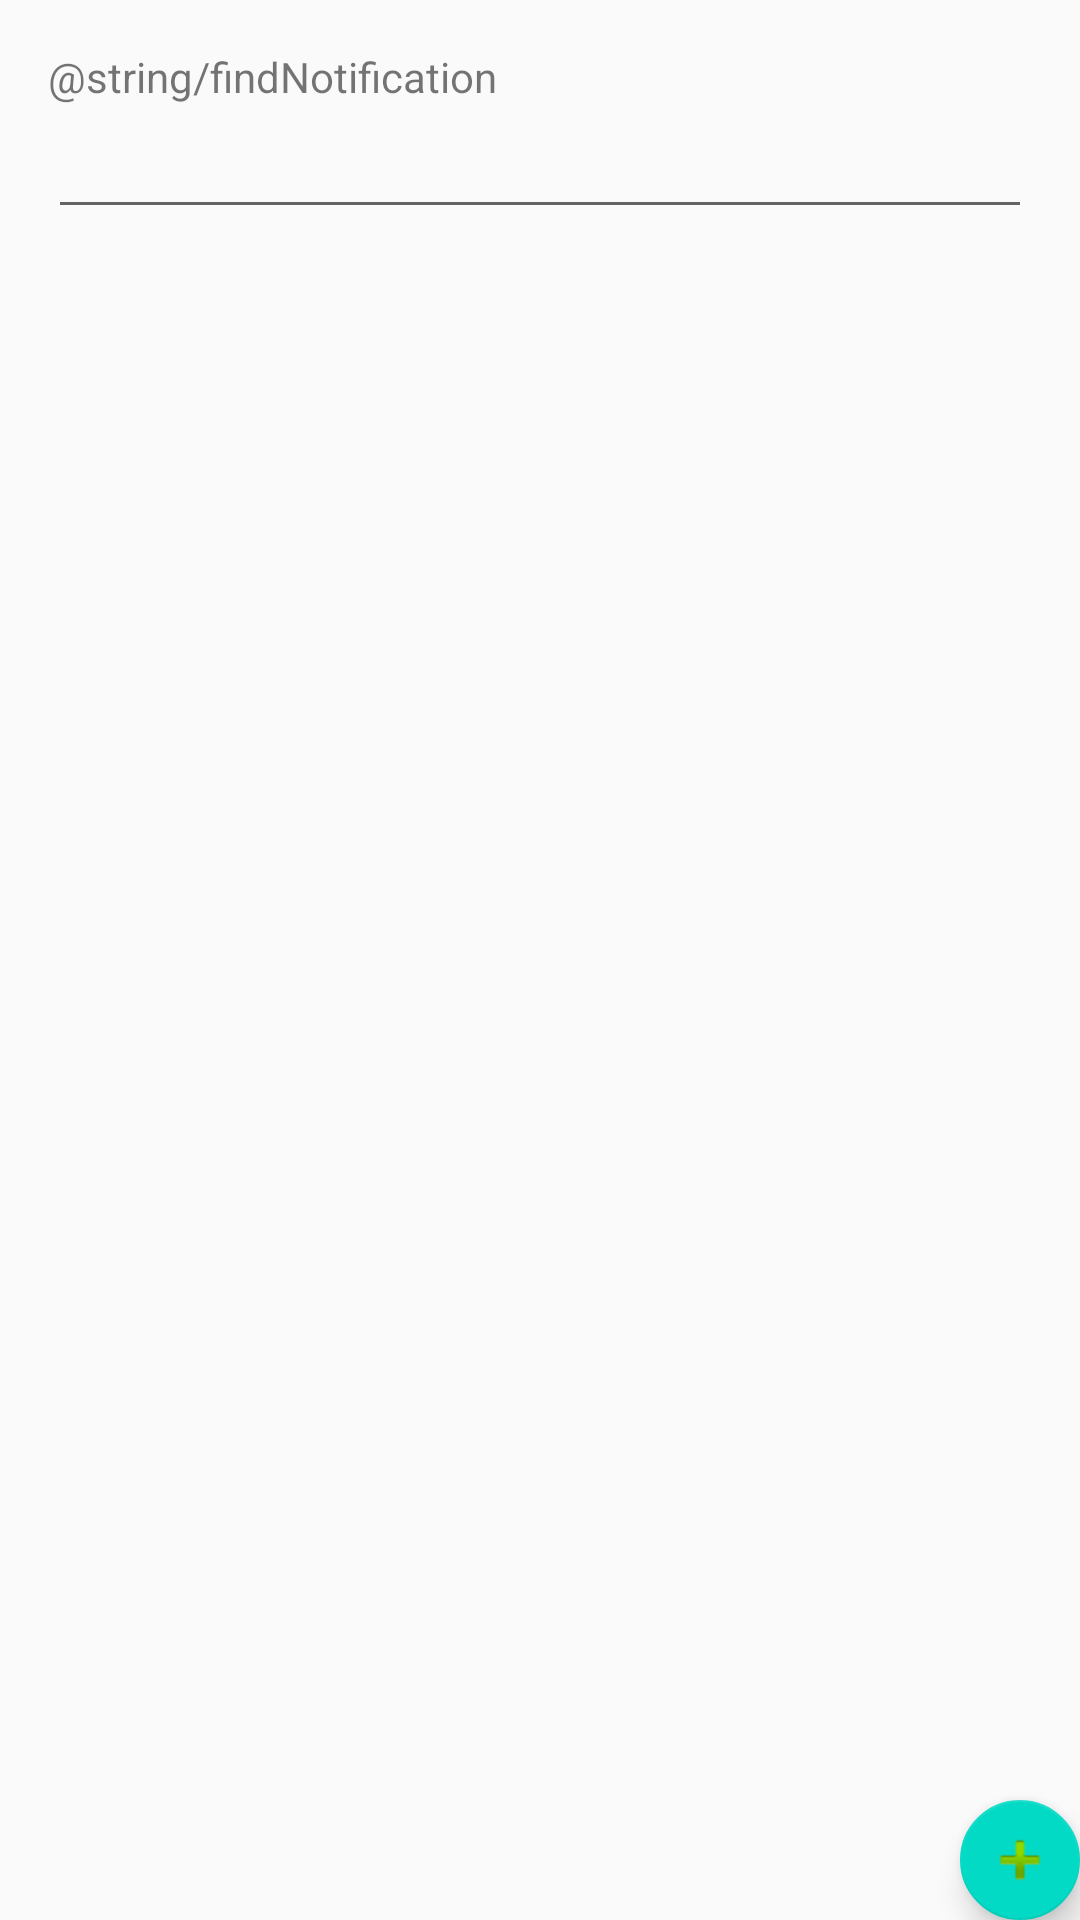

Where icons sit on this 1080×1920 app screen, as (x1, y1, x2, y2):
add: (960, 1800, 1080, 1920)
